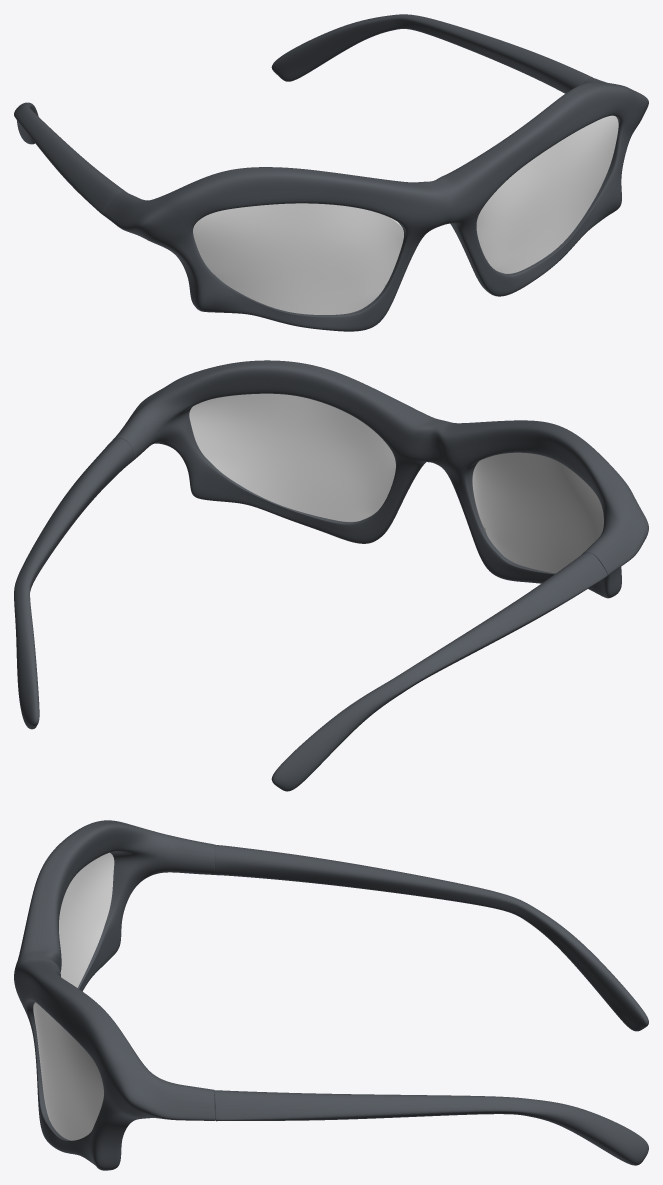
Rendered from balenciga glass.glb.
3 views of the same model, one above another, from view 1: azimuth 30°, elevation 25°; view 2: azimuth 150°, elevation 25°; view 3: azimuth 270°, elevation 25° (orthographic). The views are drawn at different scales.
Visible parts, largest first — view 1: Cube, Cube.002, Cube.001; view 2: Cube, Cube.002, Cube.001; view 3: Cube, Cube.001, Cube.002.
Boxes of the visible parts, bbox=[...] form: Cube: bbox=[103, 78, 648, 331]; Cube.002: bbox=[193, 115, 618, 314]; Cube.001: bbox=[14, 14, 593, 215]; Cube: bbox=[105, 360, 648, 598]; Cube.002: bbox=[189, 393, 603, 573]; Cube.001: bbox=[14, 438, 607, 791]; Cube: bbox=[14, 820, 215, 1170]; Cube.001: bbox=[214, 844, 648, 1165]; Cube.002: bbox=[33, 852, 114, 1140].
Size of the model in its own units: 6.29 by 1.99 by 6.27.
Materials: 2 (1 with a texture image).
